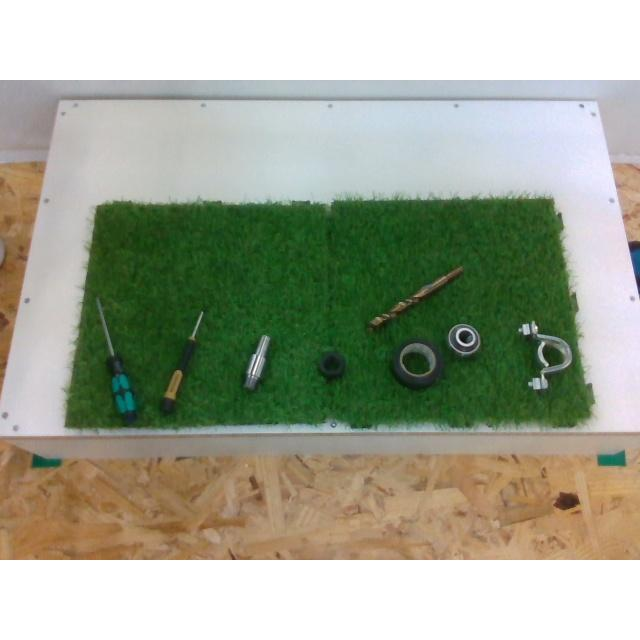Axis2: (243, 334, 269, 390)
Bearing2: (447, 322, 479, 353)
Drill: (369, 267, 461, 327)
Housing: (520, 320, 572, 388)
M20: (316, 353, 344, 377)
Screwdriver: (96, 296, 138, 424)
